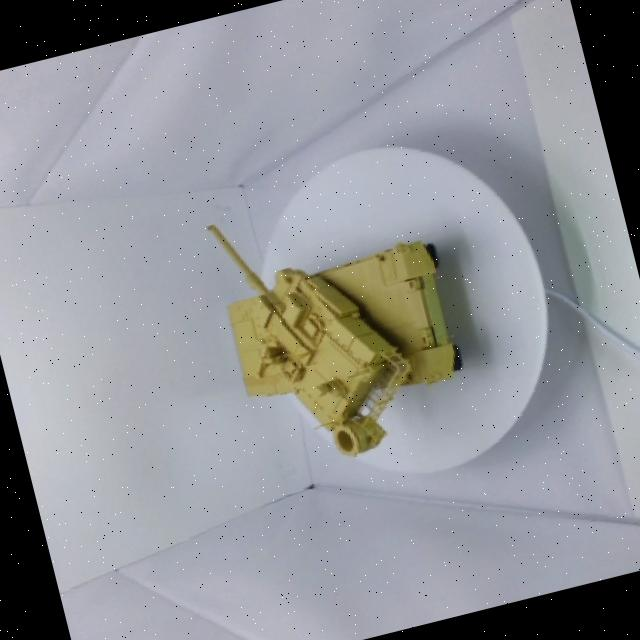korea tank: (143, 119, 508, 509)
